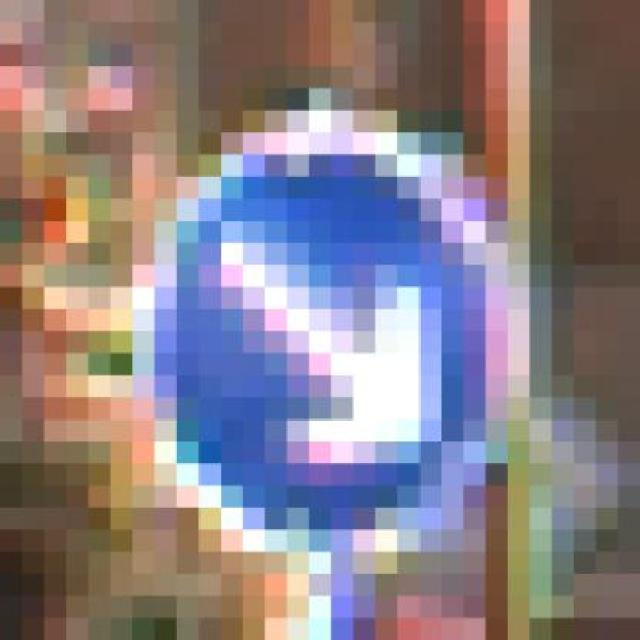Keep-Right: (88, 66, 574, 619)
